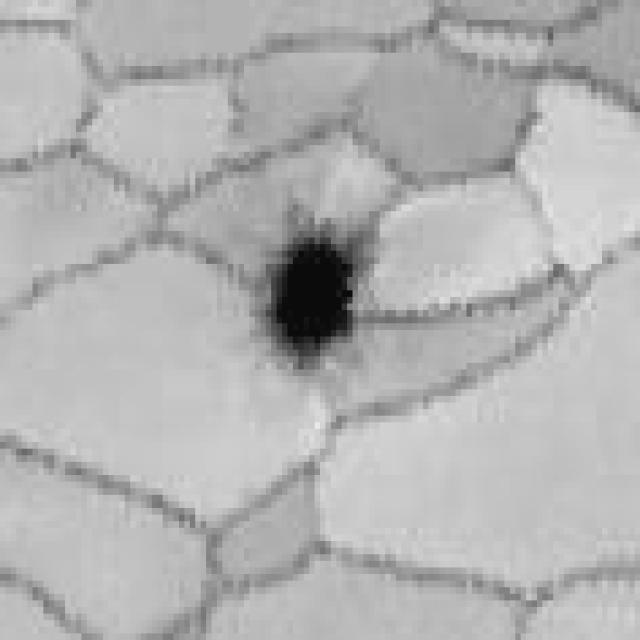good_void: (244, 183, 397, 390)
